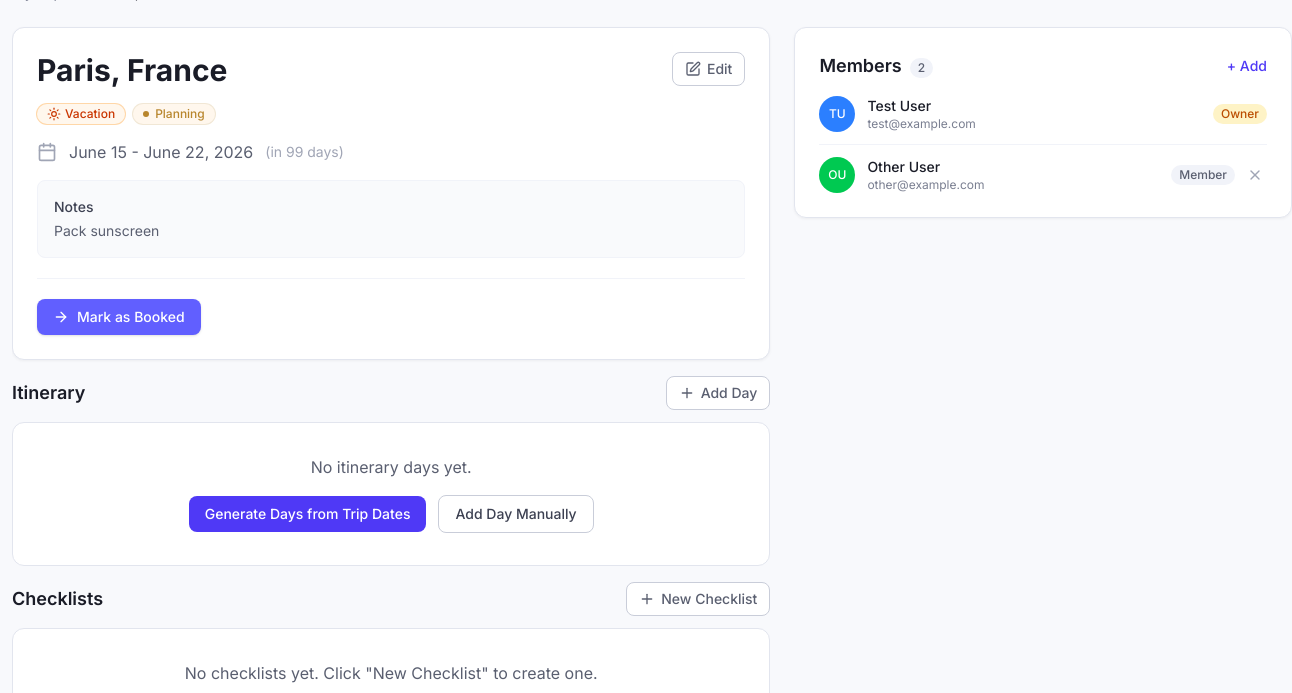
Test case: TripDetailPage › shows edit button and toggles edit mode
What coordinates should you click on to do the following:
click the button "Edit"
I would click on:
 (709, 69)
Its box is x1=672 y1=52 x2=745 y2=86.
(page scrolled)
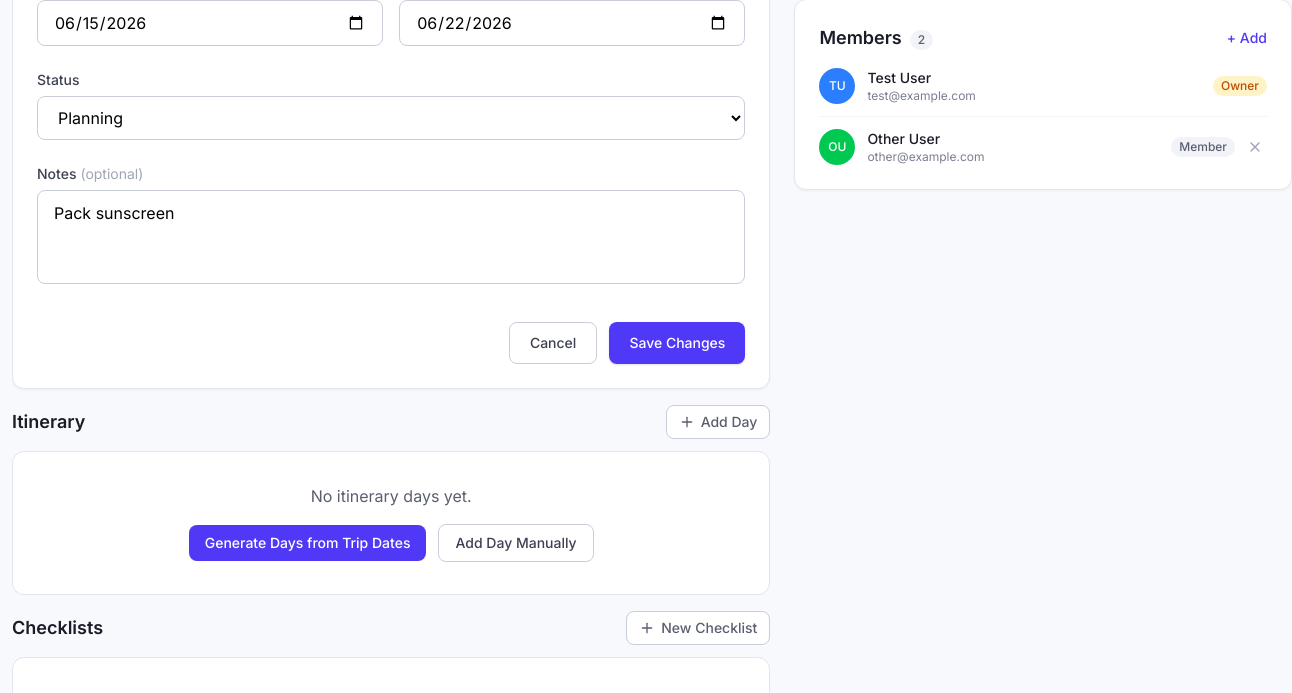
Now the button "Save Changes" is shown, box x1=609 y1=322 x2=745 y2=364
